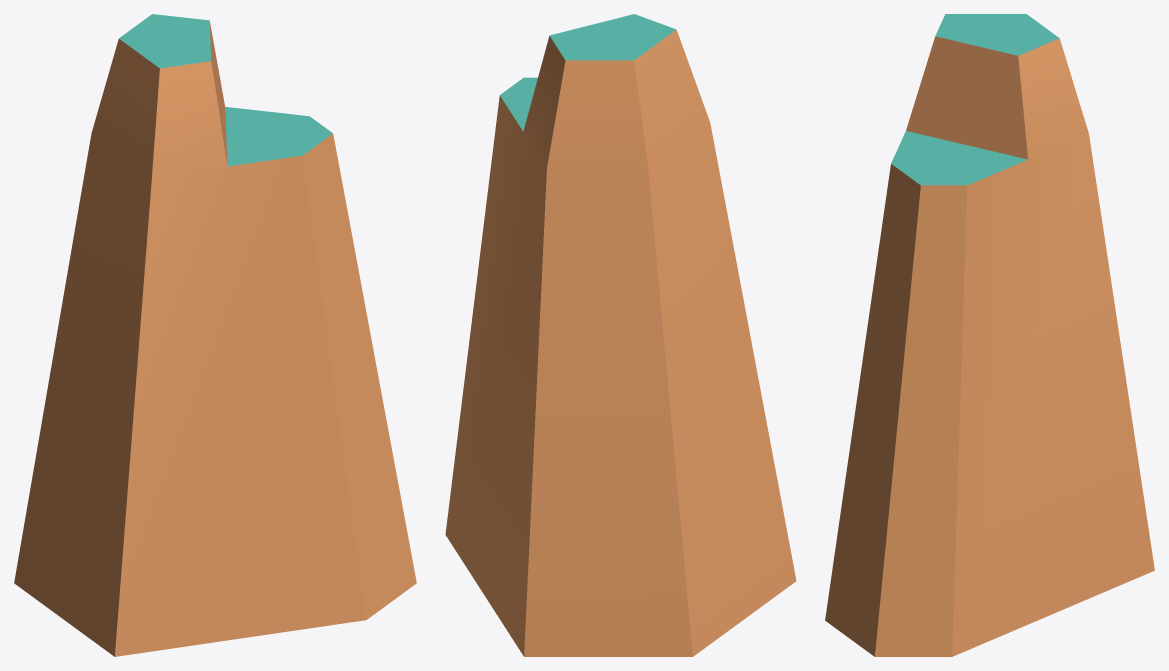
File: rock_tall3.fbx
3 renders of one model, left to right at view 1: azimuth 30°, elevation 25°; view 2: azimuth 150°, elevation 25°; view 3: azimuth 270°, elevation 25°, orthographic. The views are drawn at different scales.
Parts seen in each view (by area): view 1: rock_tall3; view 2: rock_tall3; view 3: rock_tall3.
Boxes of the visible parts, x1,y1,x2,y2 form: rock_tall3: (14, 14, 416, 656); rock_tall3: (445, 14, 796, 656); rock_tall3: (825, 14, 1154, 656).
Bounding box in the file's own units: 4.56 × 7.83 × 4.37.
